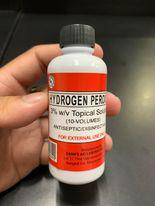-Bottle-: (47, 25, 107, 185)
